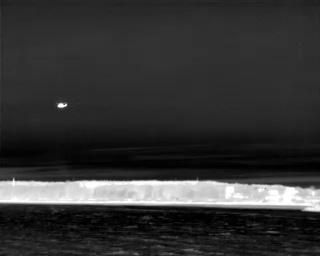HELICOPTER: (53, 98, 72, 114)
